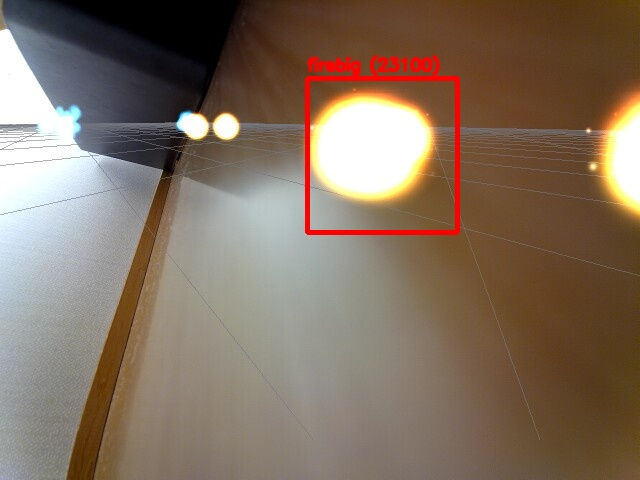firebig: (307, 78, 457, 232)
